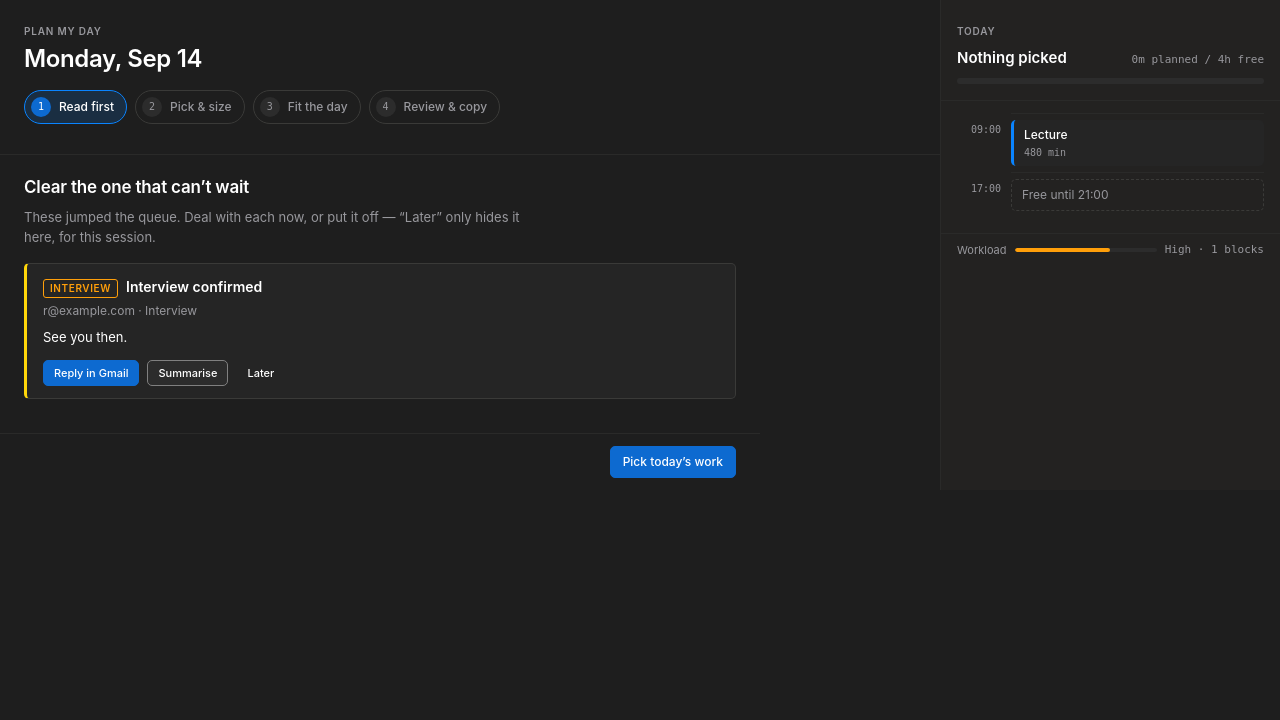
Test: Plan my day › explains a read-only grant and offers a copy, never a confirm
Step 1. Click the button "Pick today’s work" → (673, 462), box [610,446,736,478]
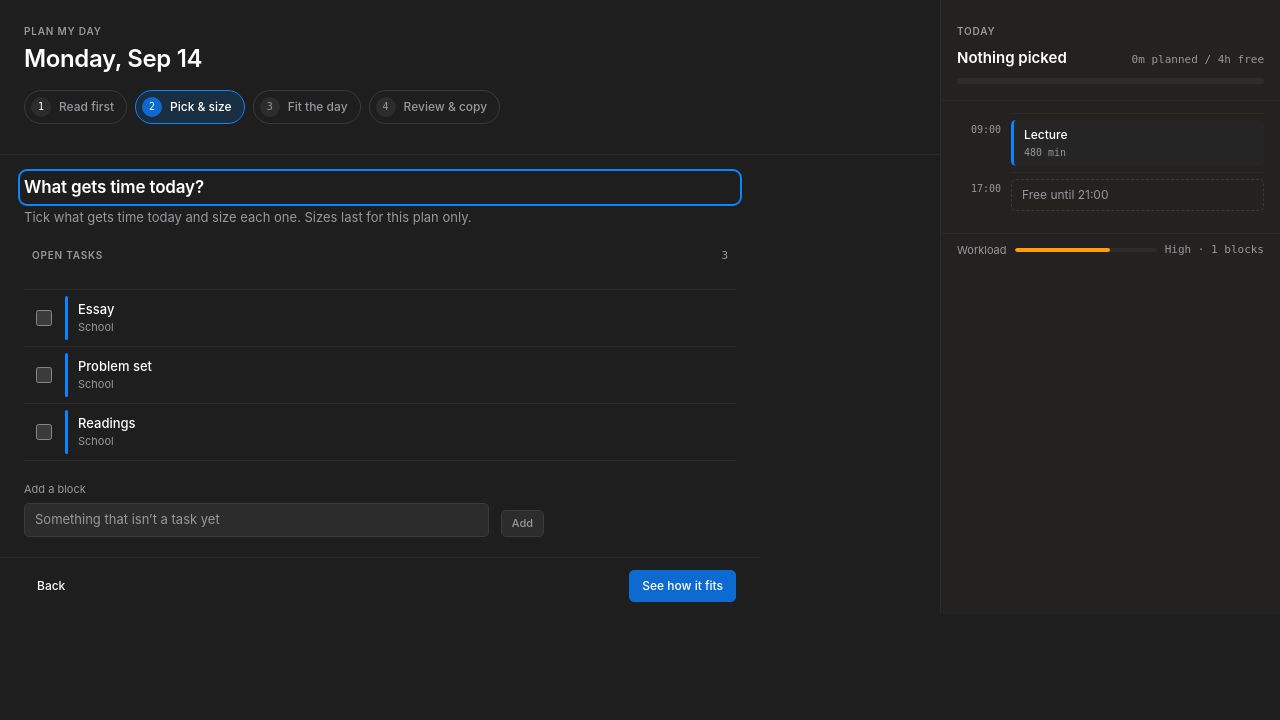
Step 2. Click the checkbox labelled "Essay School" → (44, 318), box [36,310,52,326]
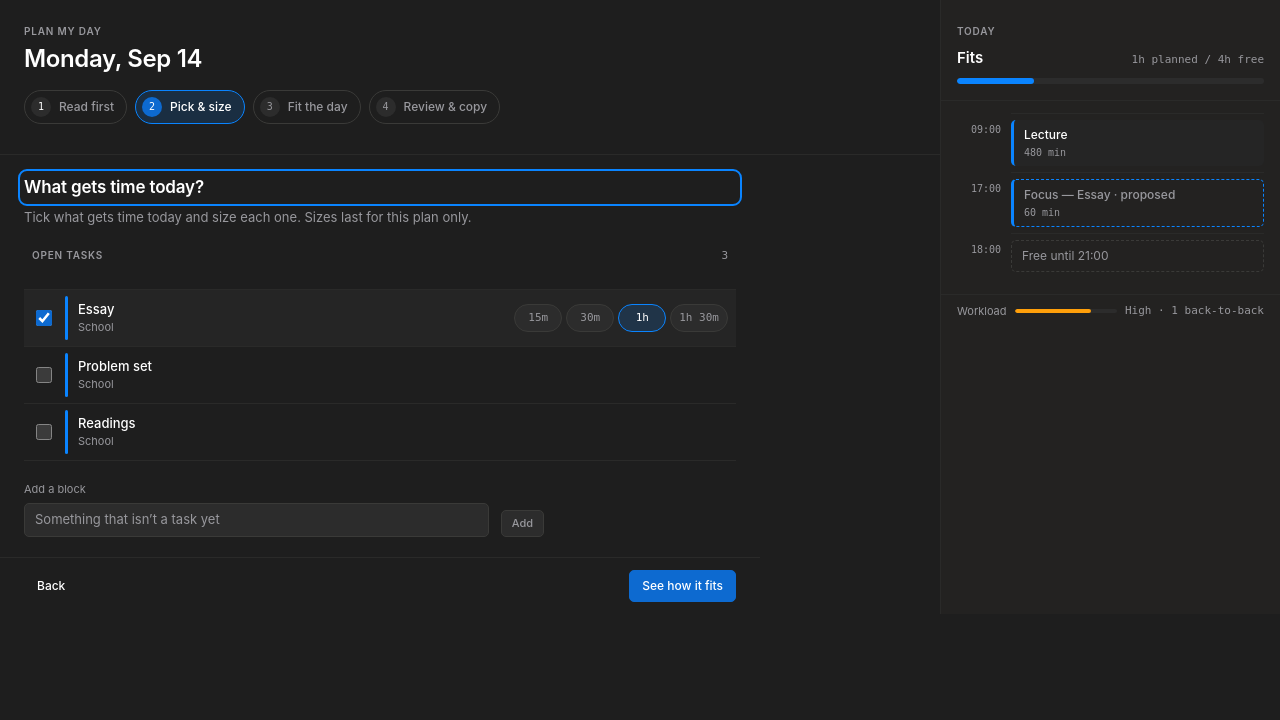
Step 3. Click the button "See how it fits" → (683, 586), box [629,570,736,602]
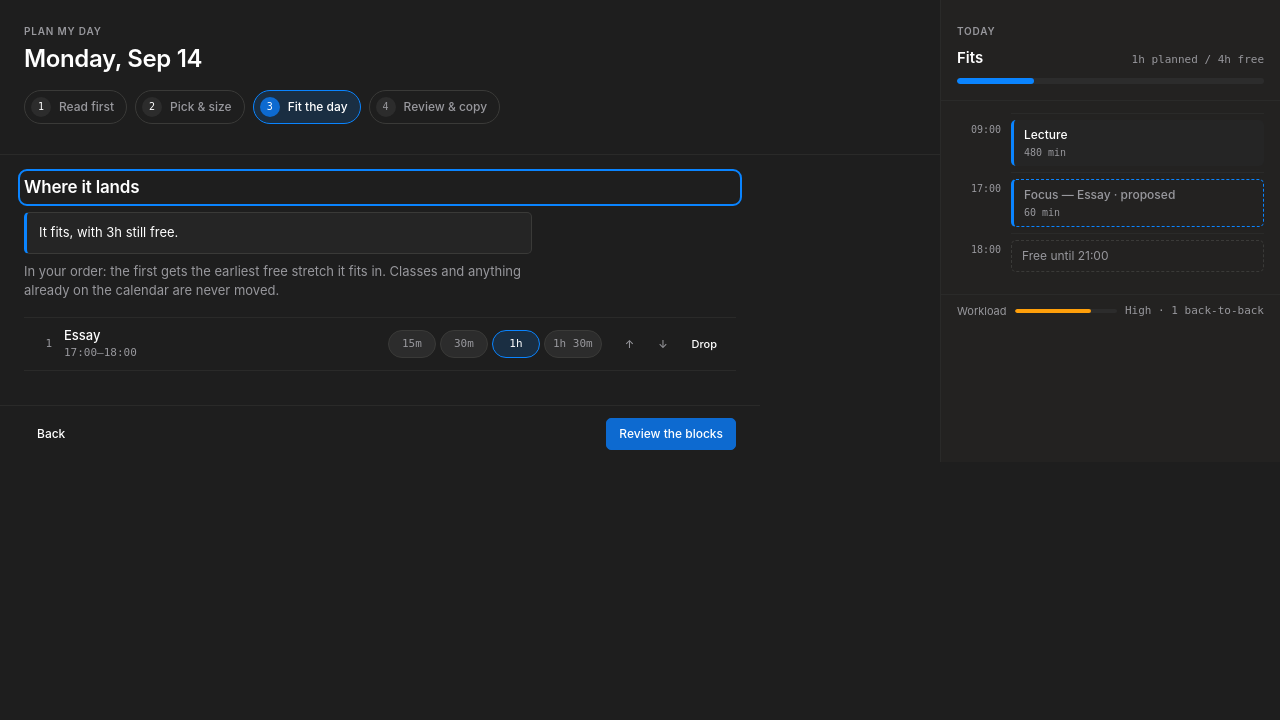
Step 4. Click the button "Review the blocks" → (671, 434), box [606,418,736,450]
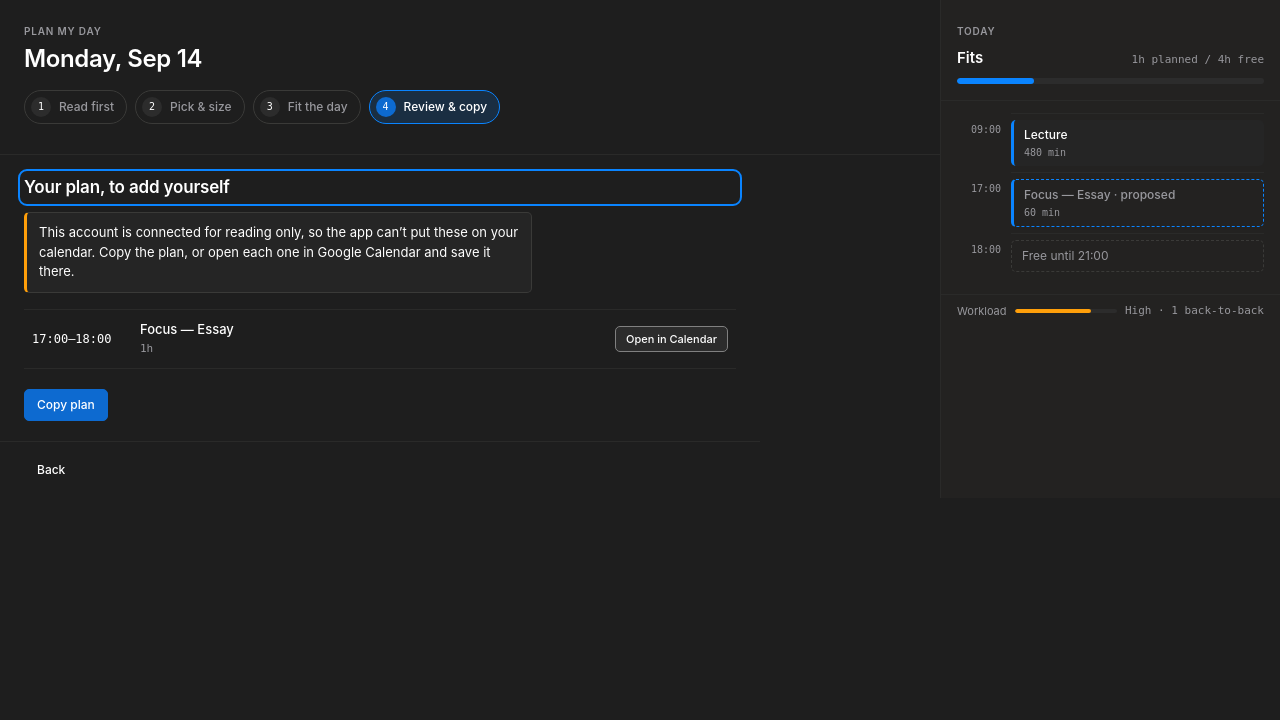
Expected: the text "connected for reading only" is shown, [39,224,518,279]
Expected: the button "Copy plan" is shown, [24,389,108,421]
